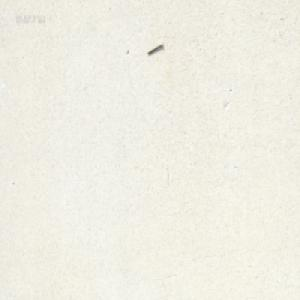Bolt: (147, 43, 163, 55)
